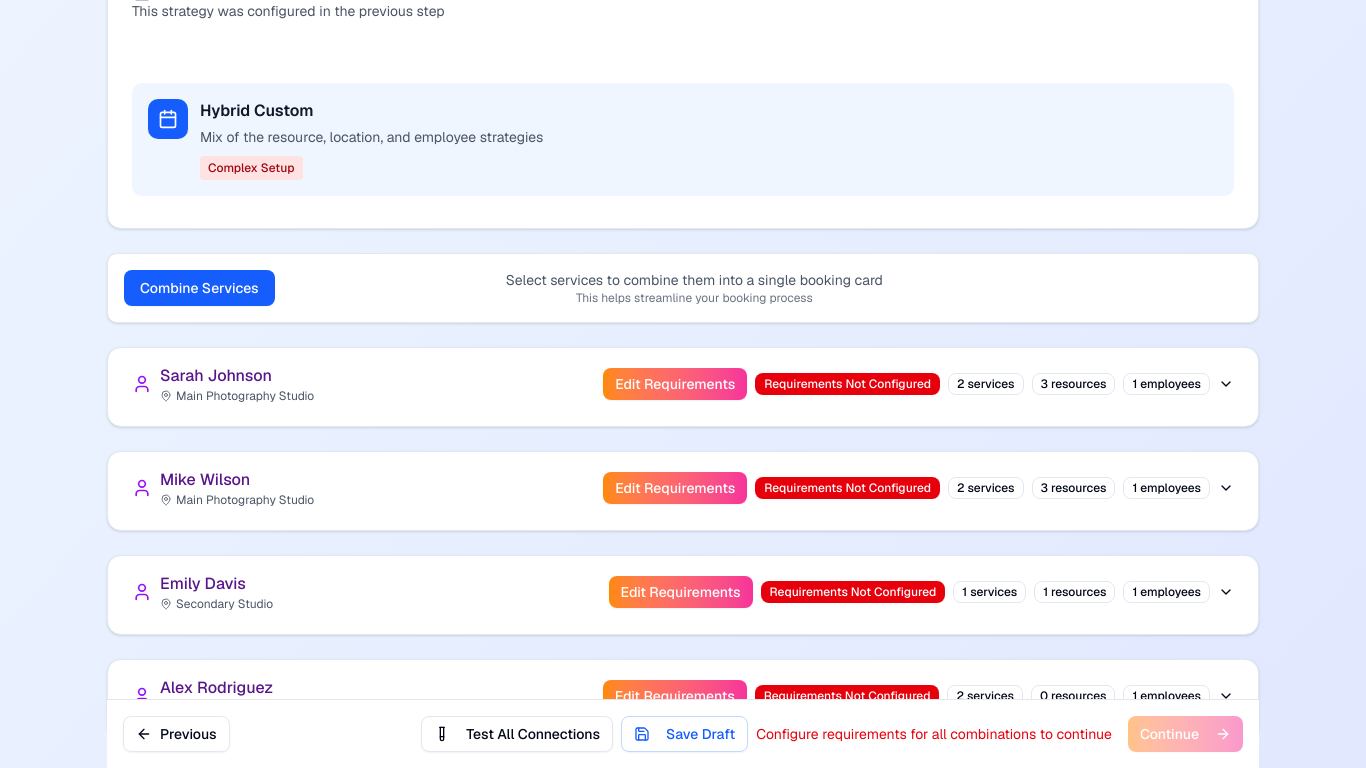
Test: Hybrid Strategy Integration Tests › handles requirements configuration for all combinations
(page scrolled)
// Should be able to configure requirements for each combination
Click the button "Edit Requirements" in the row of "Sarah Johnson": (675, 384) [603,368,747,400]
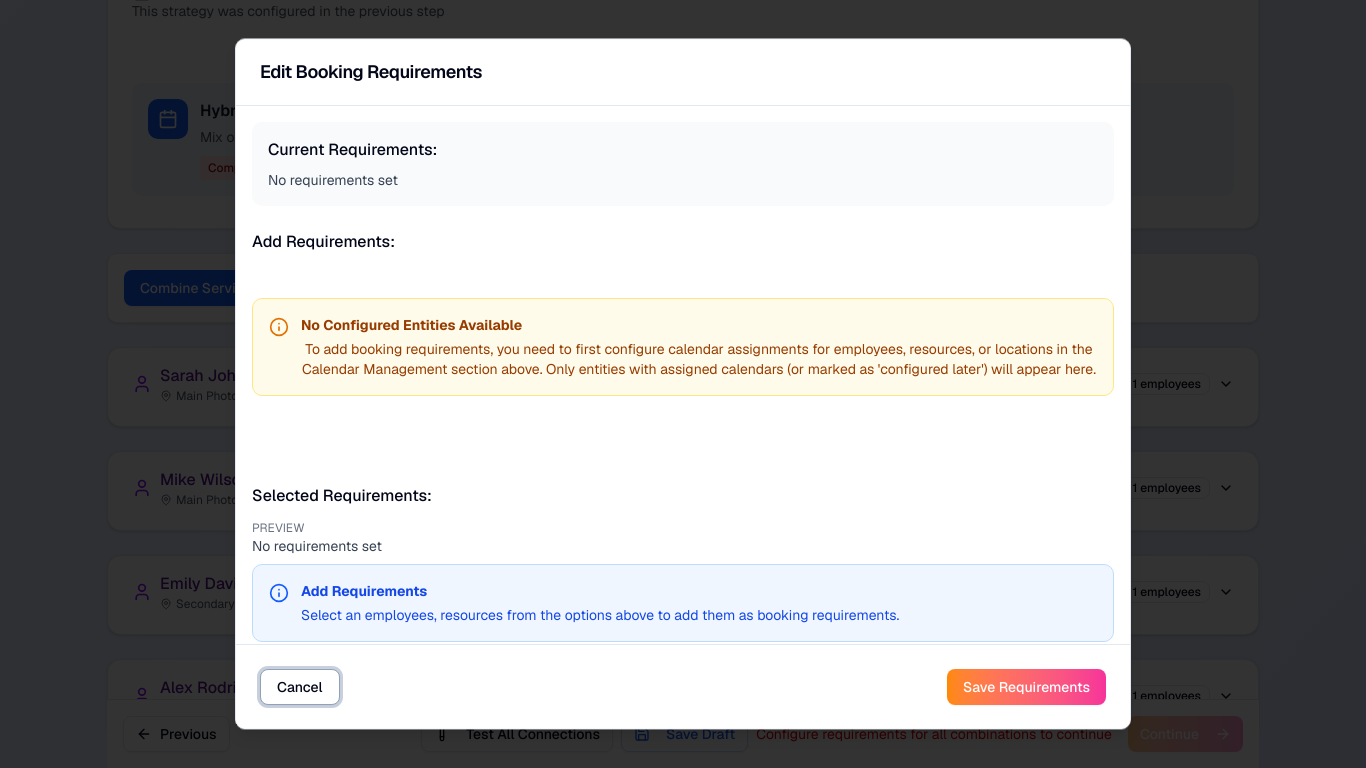
Expected: the heading "Edit Booking Requirements" is shown, [260,60,482,83]
